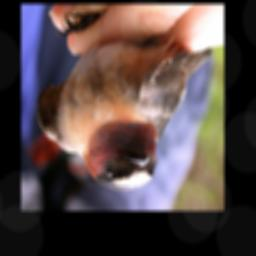Swallow: (38, 11, 212, 191)
